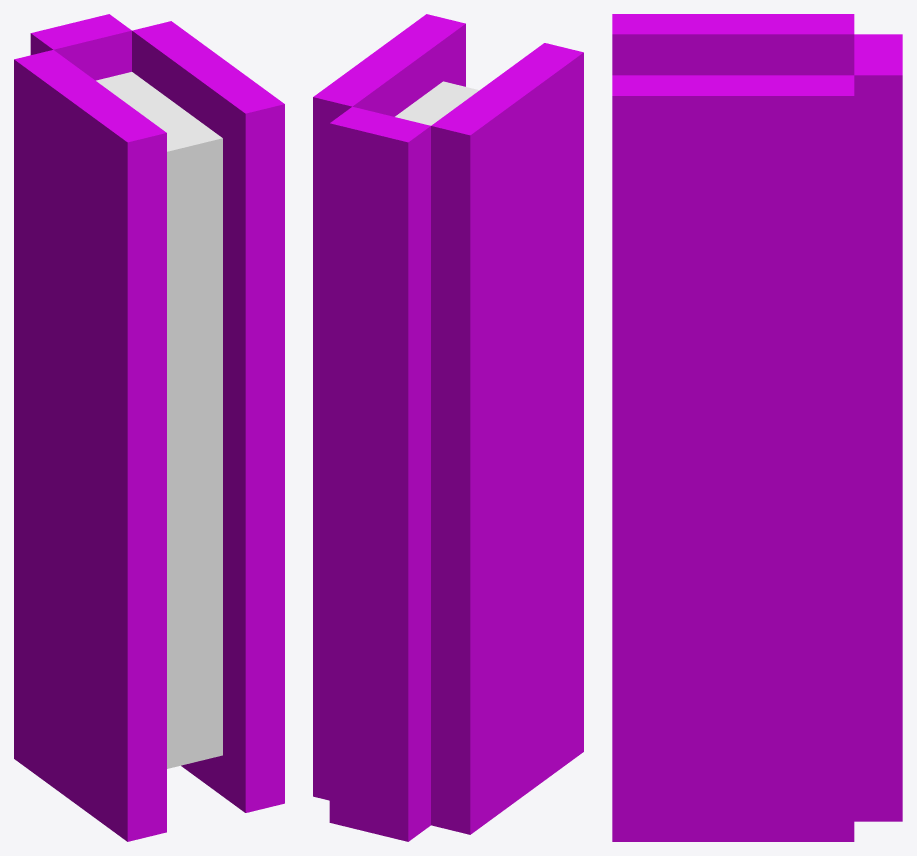
The model's file is Books.vox-0.obj.
The picture shows the model from 3 angles, left to right: view 1: azimuth 30°, elevation 25°; view 2: azimuth 150°, elevation 25°; view 3: azimuth 270°, elevation 25°; orthographic projection. The views are drawn at different scales.
Bounding box in the file's own units: 0.4 × 1.7 × 0.6.
1 material, 1 textured.
